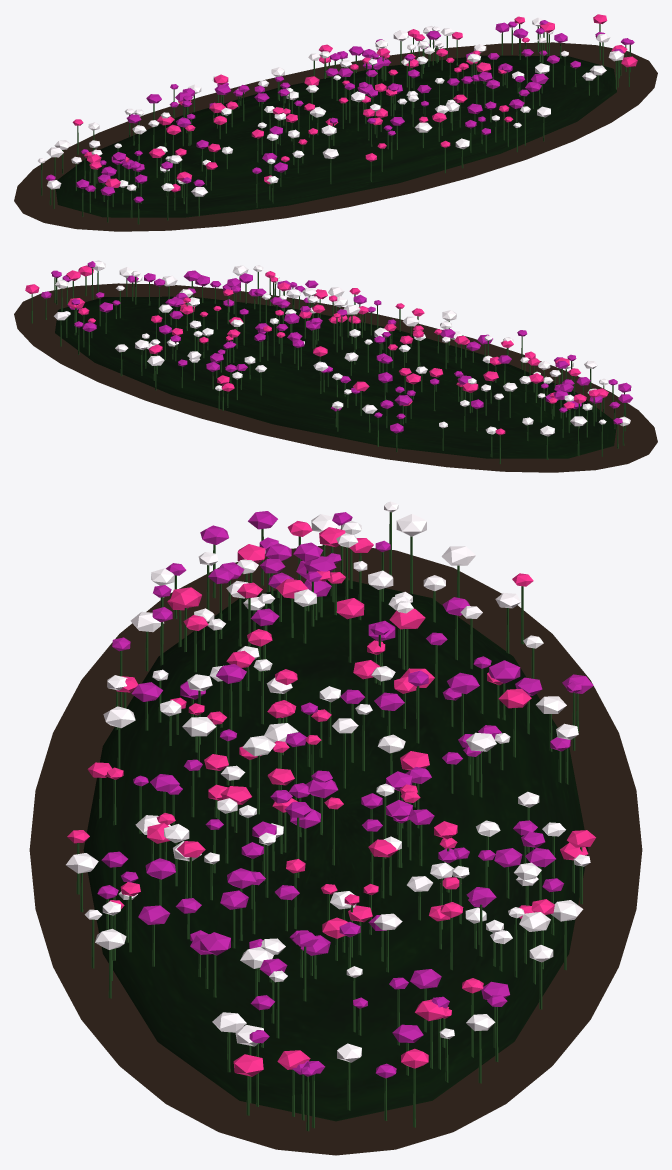
File: flower-bed-9.glb
3 renders of one model, top to bottom at view 1: azimuth 30°, elevation 25°; view 2: azimuth 150°, elevation 25°; view 3: azimuth 270°, elevation 25°, orthographic. The views are drawn at different scales.
Visible parts, largest first — view 1: flower-bed-9_MeshStandardMaterial (×4); view 2: flower-bed-9_MeshStandardMaterial (×4); view 3: flower-bed-9_MeshStandardMaterial (×4).
Part boxes in pixels (x1,y1,x2,y2): flower-bed-9_MeshStandardMaterial (×4): (14, 14, 657, 231); flower-bed-9_MeshStandardMaterial (×4): (14, 260, 657, 472); flower-bed-9_MeshStandardMaterial (×4): (29, 501, 642, 1155).
Size of the model in its own units: 5.9 by 0.5696 by 2.5.
4 materials, 1 textured.
